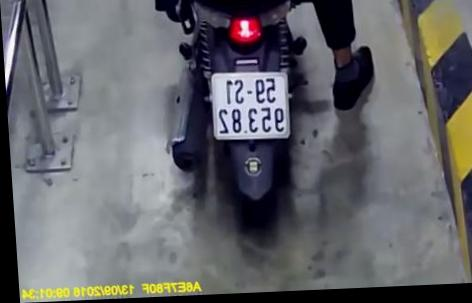License_Plate: (204, 67, 298, 149)
